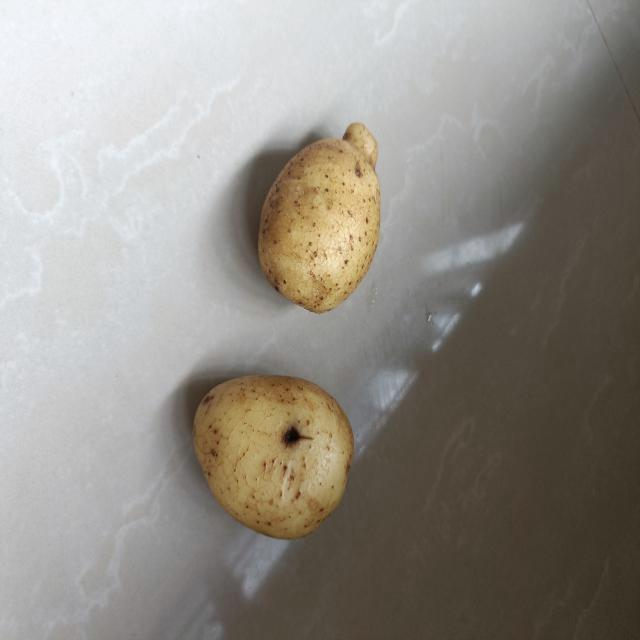potato: (186, 369, 356, 543), (255, 115, 388, 321)
